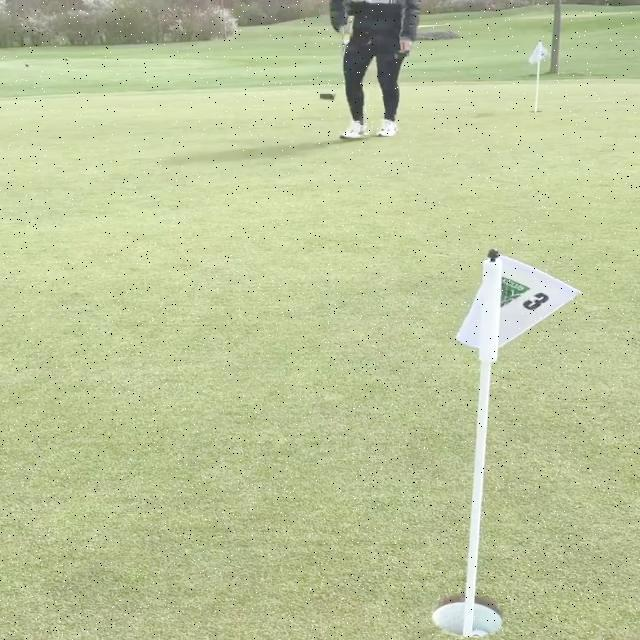golf ball: (472, 630, 489, 637)
golf club-handle: (318, 16, 353, 100)
golf club-head: (319, 90, 337, 99)
